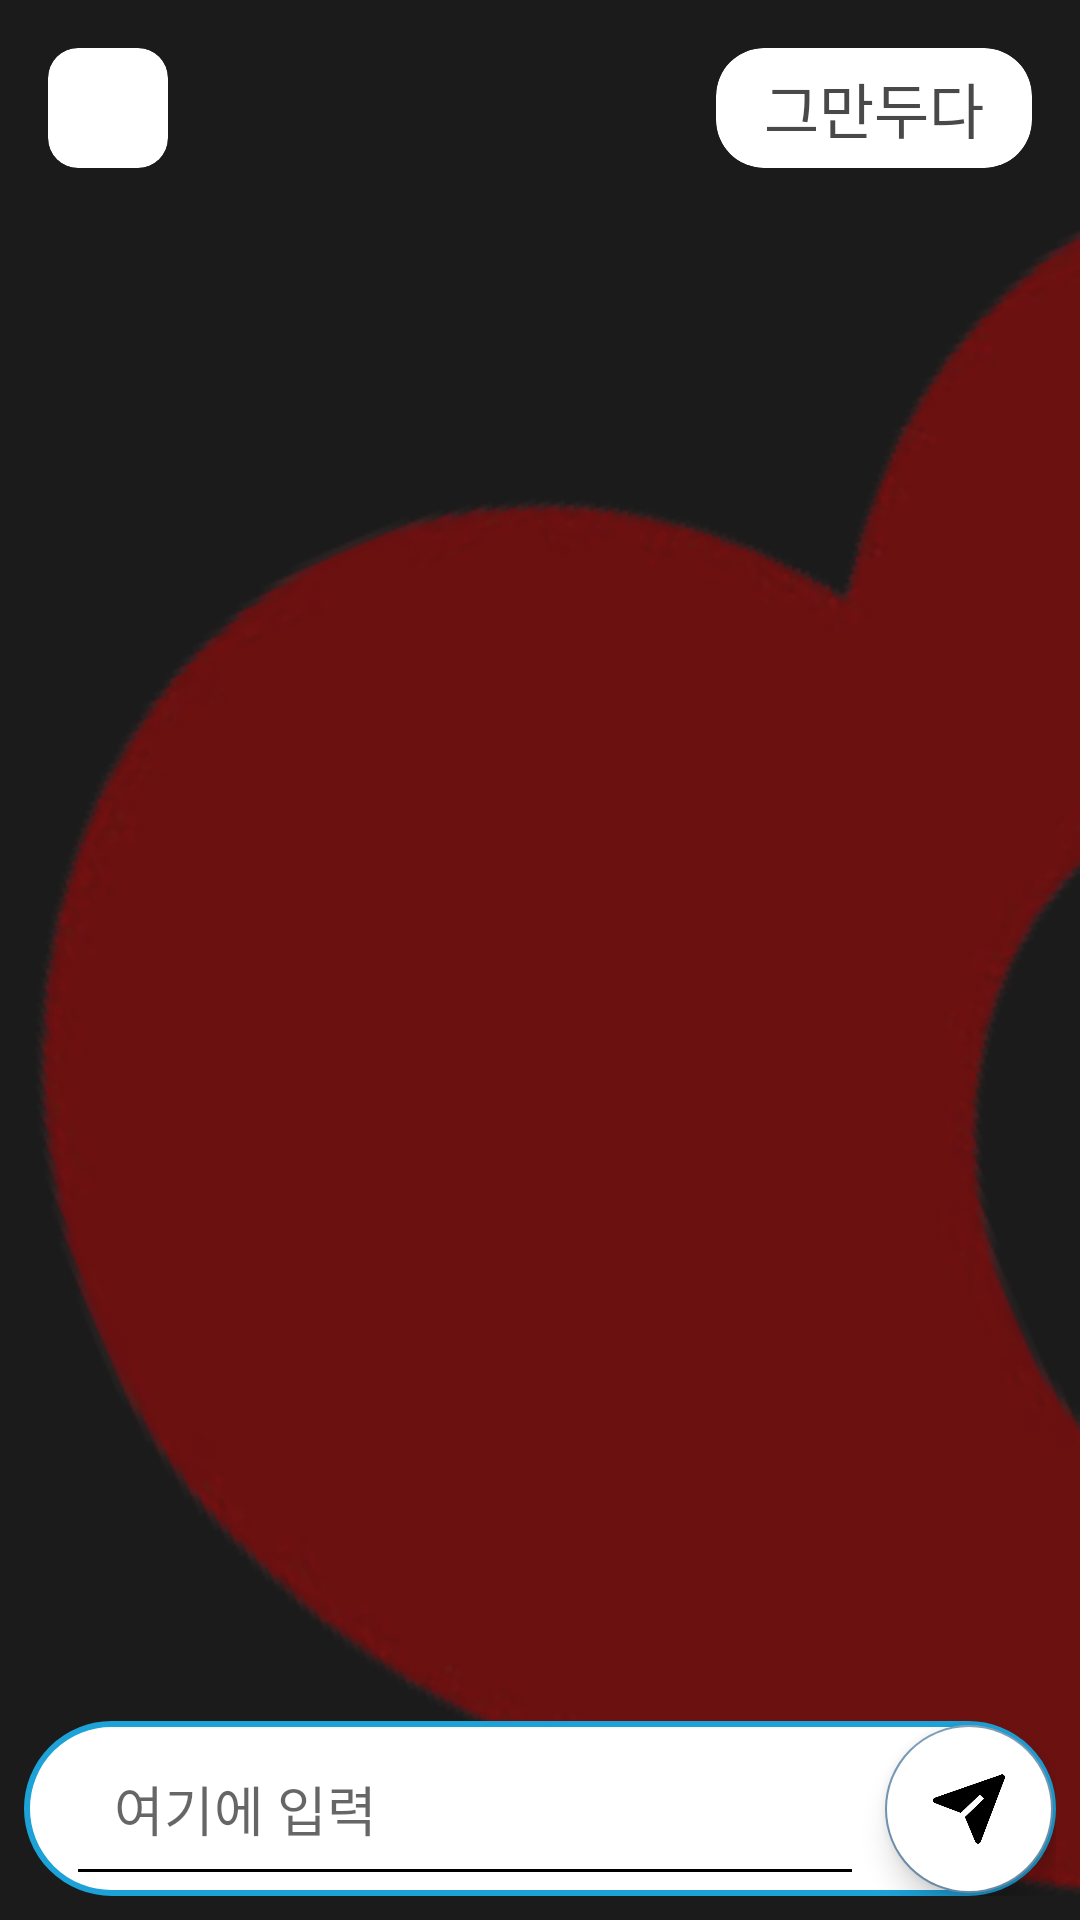

Icon click points for this 1080 x 1920 phone screenshot, format (x=x, y=y):
send msg: (x=969, y=1809)
